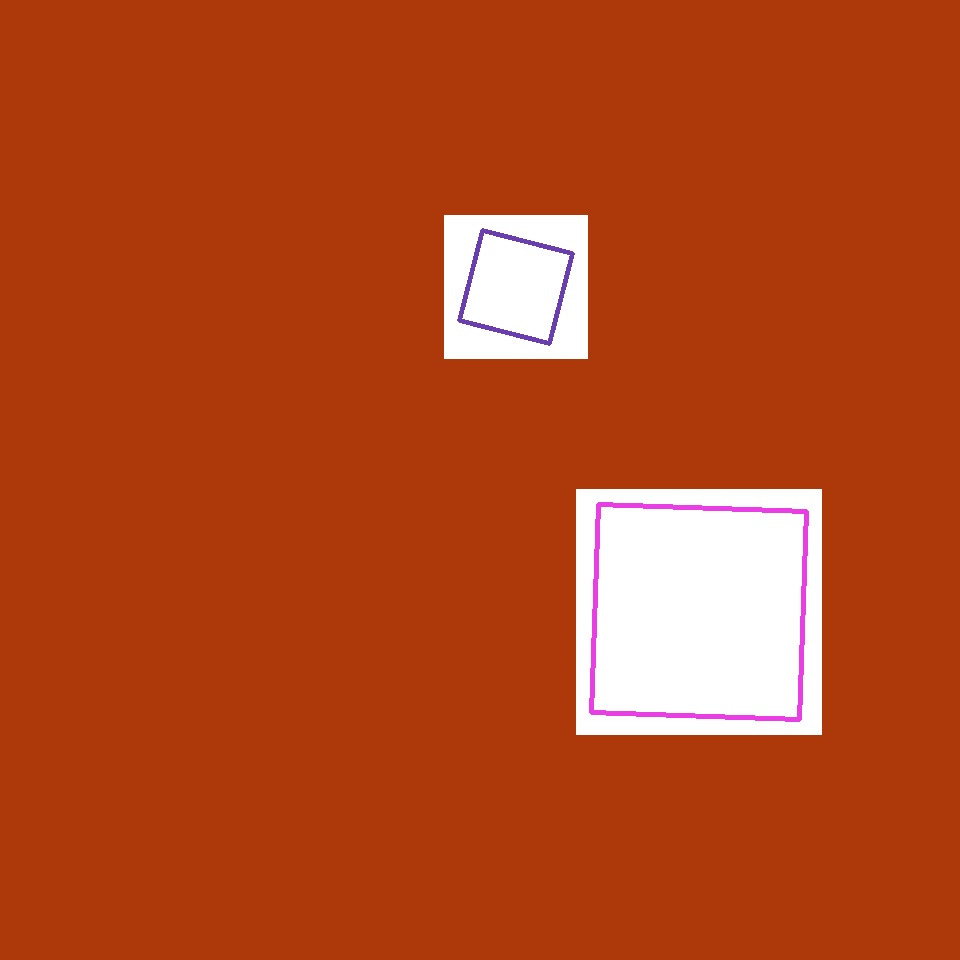circle: (504, 539, 724, 778), (642, 172, 738, 256)
square: (592, 504, 806, 719), (570, 628, 754, 812), (460, 230, 572, 344)
triangle: (329, 170, 710, 550), (398, 268, 779, 648)
